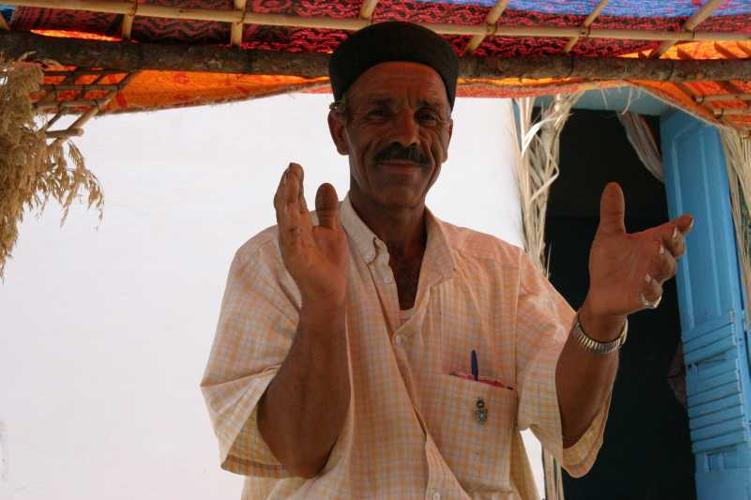person: (199, 10, 698, 500)
